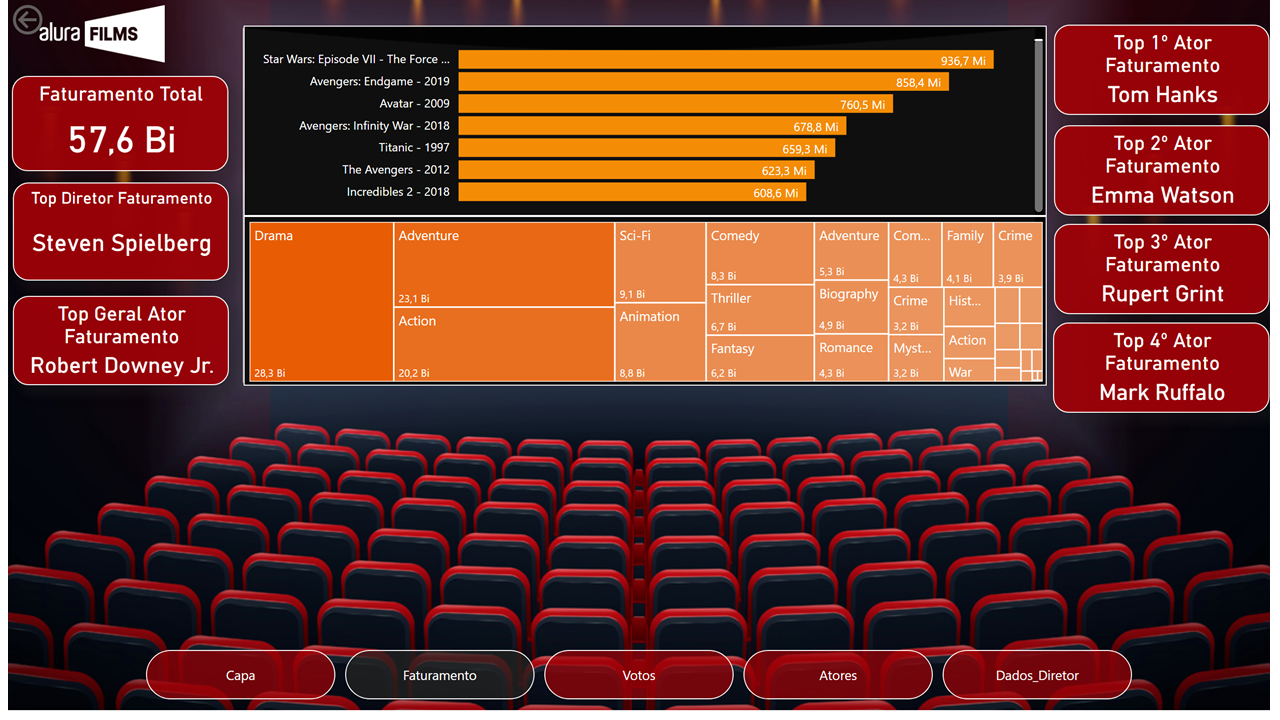

This screenshot's page, from the dashboard's own definition file:
{"tool":"powerbi","page":{"name":"Faturamento","canvas":[1280,720],"ordinal":1},"visuals":[{"type":"image","box":[0,0,190.7,68.7],"z":0},{"type":"barChart","title":"Ranking Faturamento","fields":{"Category":["Filmes.Nome_Ano"],"Y":["_Medidas.Faturamento_Total"]},"box":[239.1,25.6,814.5,193.2],"z":1000},{"type":"card","title":"Faturamento Total","fields":{"Values":["_Medidas.Faturamento_Total"]},"box":[4.1,76.9,219.5,96.4],"z":2000},{"type":"card","title":"Top Diretor Faturamento","fields":{"Values":["_Medidas.Maior_Diretor"]},"box":[5.3,184.7,218.8,99.3],"z":3000},{"type":"card","title":"Top 1º Ator Faturamento","fields":{"Values":["_Medidas.Maior_Ator_faturamento"]},"box":[1061.5,25.2,218.5,91.3],"z":4000},{"type":"actionButton","box":[0,0,100,40],"z":5000},{"type":"card","title":"Top 2º Ator Faturamento","fields":{"Values":["_Medidas.Maior_2_Ator_faturamento"]},"box":[1061.5,127.3,218.5,91.3],"z":6000},{"type":"card","title":"Top 3º Ator Faturamento","fields":{"Values":["_Medidas.Maior_3_Ator_faturamento"]},"box":[1061.5,226.9,218.5,91.3],"z":7000},{"type":"card","title":"Top 4º Ator Faturamento","fields":{"Values":["_Medidas.Maior_4_Ator_faturamento"]},"box":[1060.3,326.6,219.7,91.3],"z":8000},{"type":"card","title":"Top Geral Ator Faturamento","fields":{"Values":["_Medidas.Maior_Geral_Ator_faturamento"]},"box":[5.3,300,218.8,90.7],"z":9000},{"type":"treemap","title":"Faturamento","fields":{"Group":["Gêneros.Genre"],"Values":["Divide(_Medidas.Faturamento_Total, ScopedEval(_Medidas.Faturamento_Total, []))"]},"box":[239.1,218.8,814.5,171.9],"z":10000},{"type":"pageNavigator","title":"ad","box":[140.5,659.2,1000.2,50.4],"z":11000}]}

Visuals, with their boxes in screenshot pixels (x1, y1, x2, y2), scaled from the page's 1280x720 canvas onto the 1280x720 screenshot:
image: [x1=0, y1=0, x2=191, y2=69]
"Ranking Faturamento" barChart: [x1=239, y1=26, x2=1054, y2=219]
"Faturamento Total" card: [x1=4, y1=77, x2=224, y2=173]
"Top Diretor Faturamento" card: [x1=5, y1=185, x2=224, y2=284]
"Top 1º Ator Faturamento" card: [x1=1062, y1=25, x2=1279, y2=116]
actionButton: [x1=0, y1=0, x2=100, y2=40]
"Top 2º Ator Faturamento" card: [x1=1062, y1=127, x2=1279, y2=219]
"Top 3º Ator Faturamento" card: [x1=1062, y1=227, x2=1279, y2=318]
"Top 4º Ator Faturamento" card: [x1=1060, y1=327, x2=1279, y2=418]
"Top Geral Ator Faturamento" card: [x1=5, y1=300, x2=224, y2=391]
"Faturamento" treemap: [x1=239, y1=219, x2=1054, y2=391]
"ad" pageNavigator: [x1=140, y1=659, x2=1141, y2=710]
